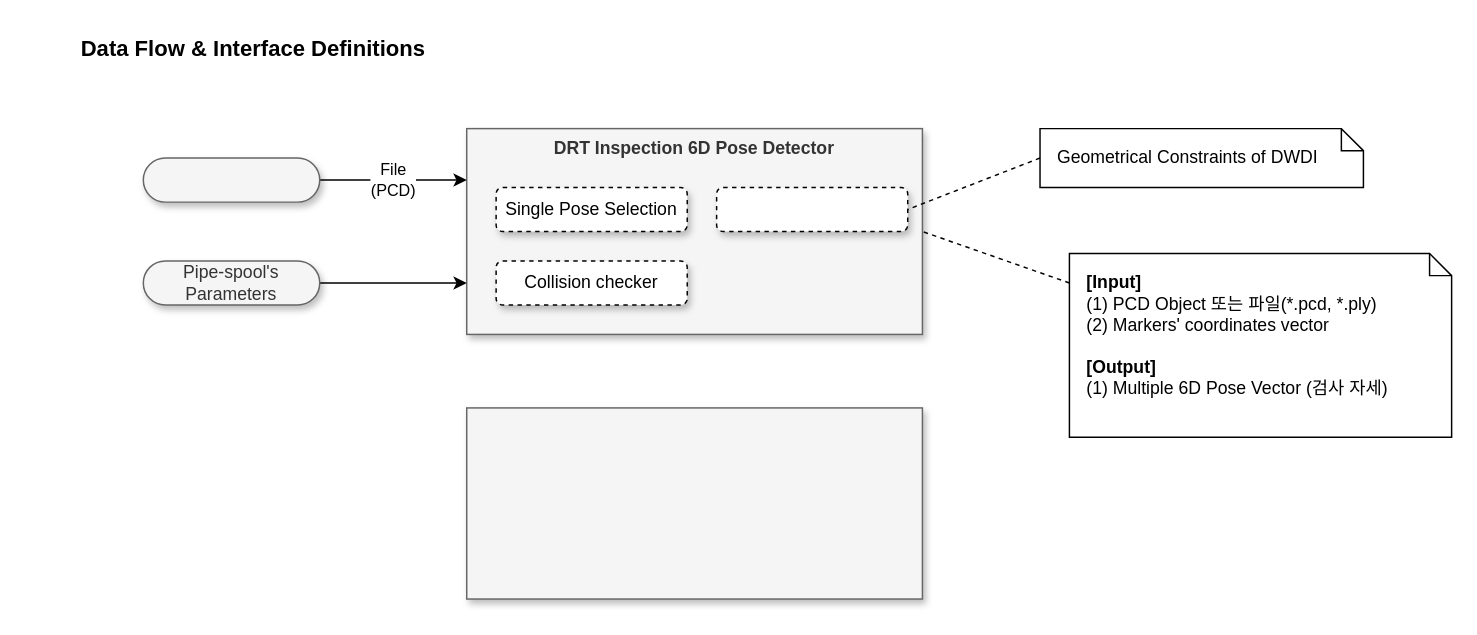
This 1477x635 diagram has some shape labels left out. The shapes that lost their labels are listed below. From the top down, each one's centre as x and y in pixels, then its label:
At point (232, 181): "3D Scan Result".
At point (813, 211): "DWDI Configurator".
At point (695, 505): "Co-bot Collision-free Path Generator".
